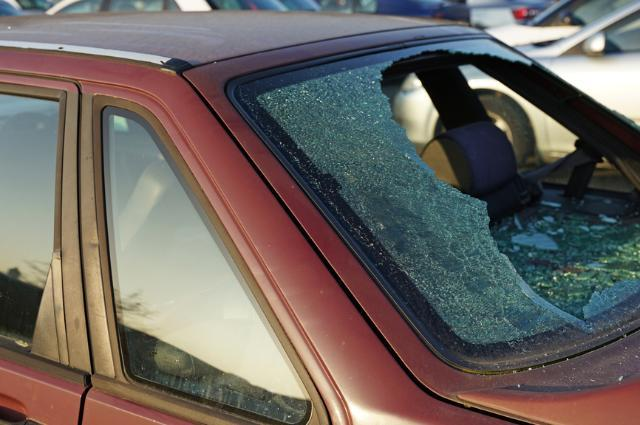Windshield: (234, 40, 640, 351)
